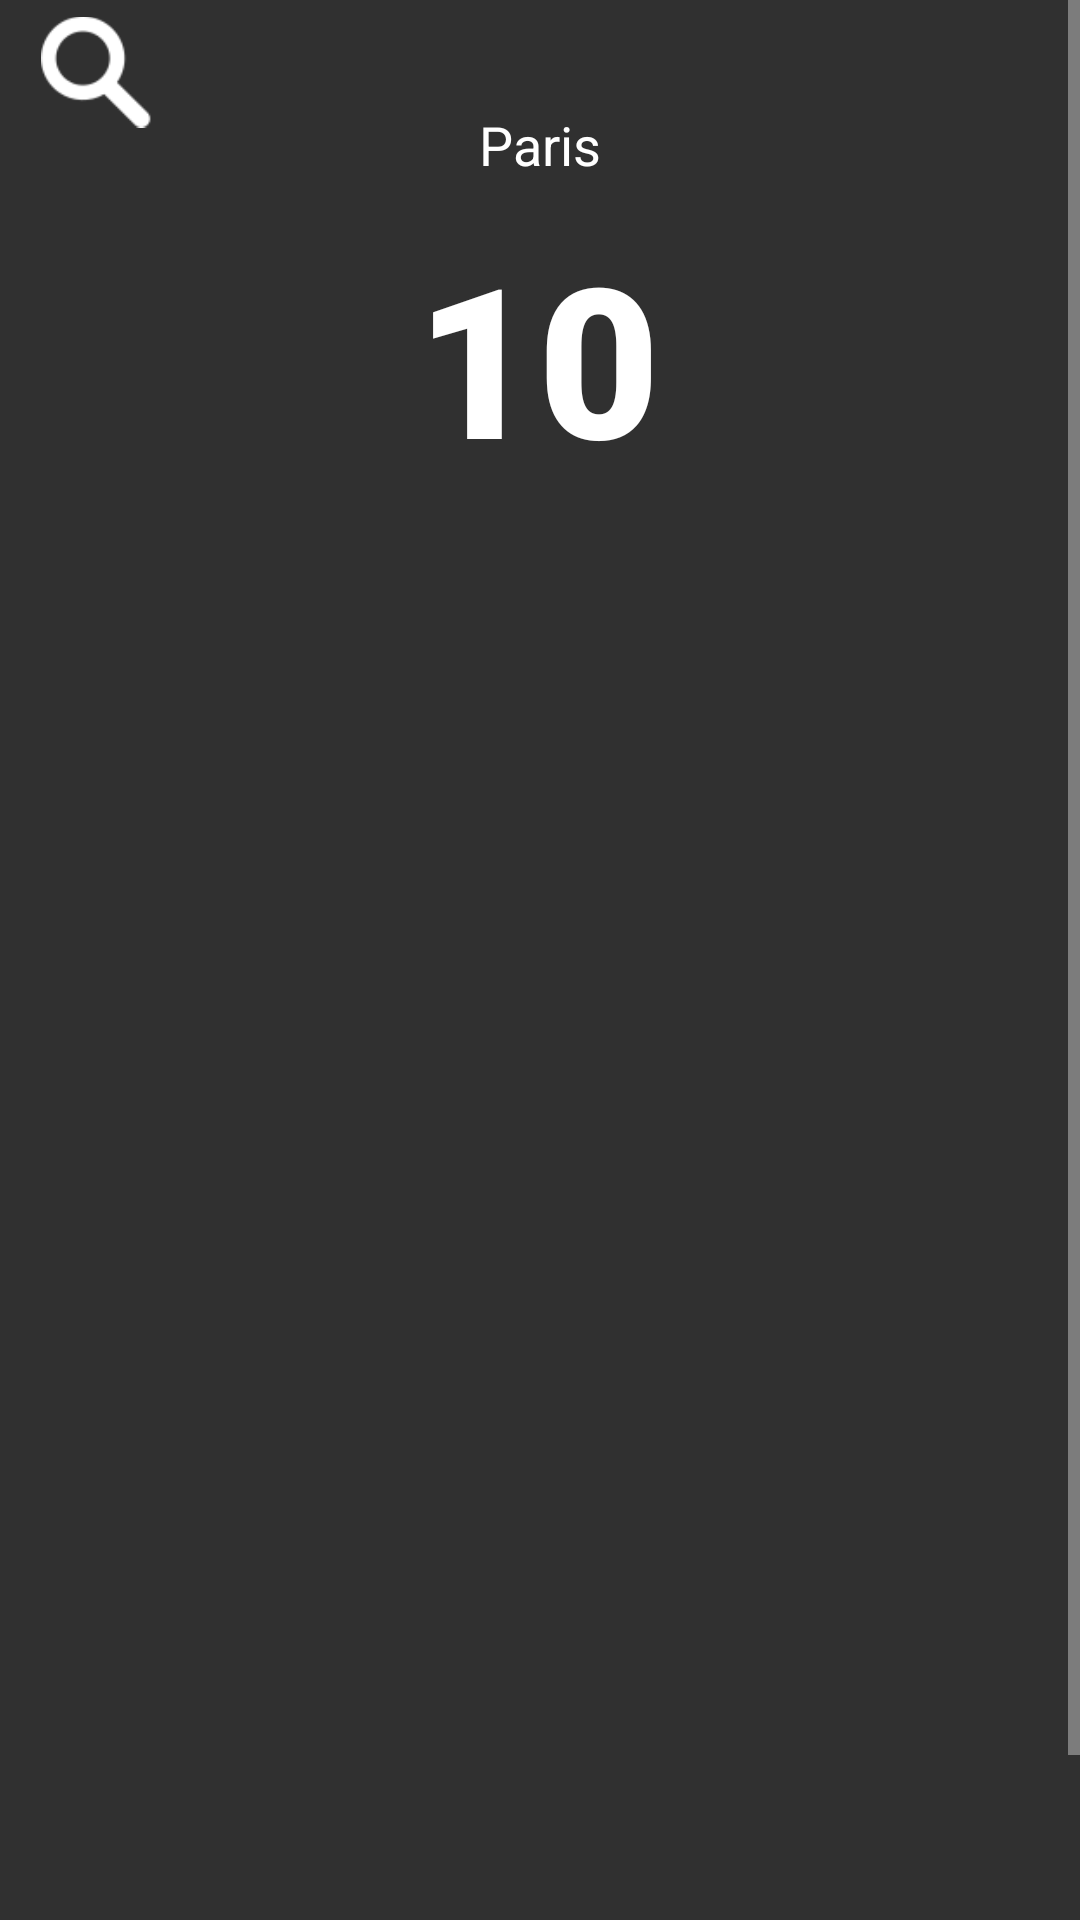

Icon bounding boxes for this 1080px x 1920px phone screenshot, format (x1, y1, x2, y2):
search: (41, 17, 151, 128)
